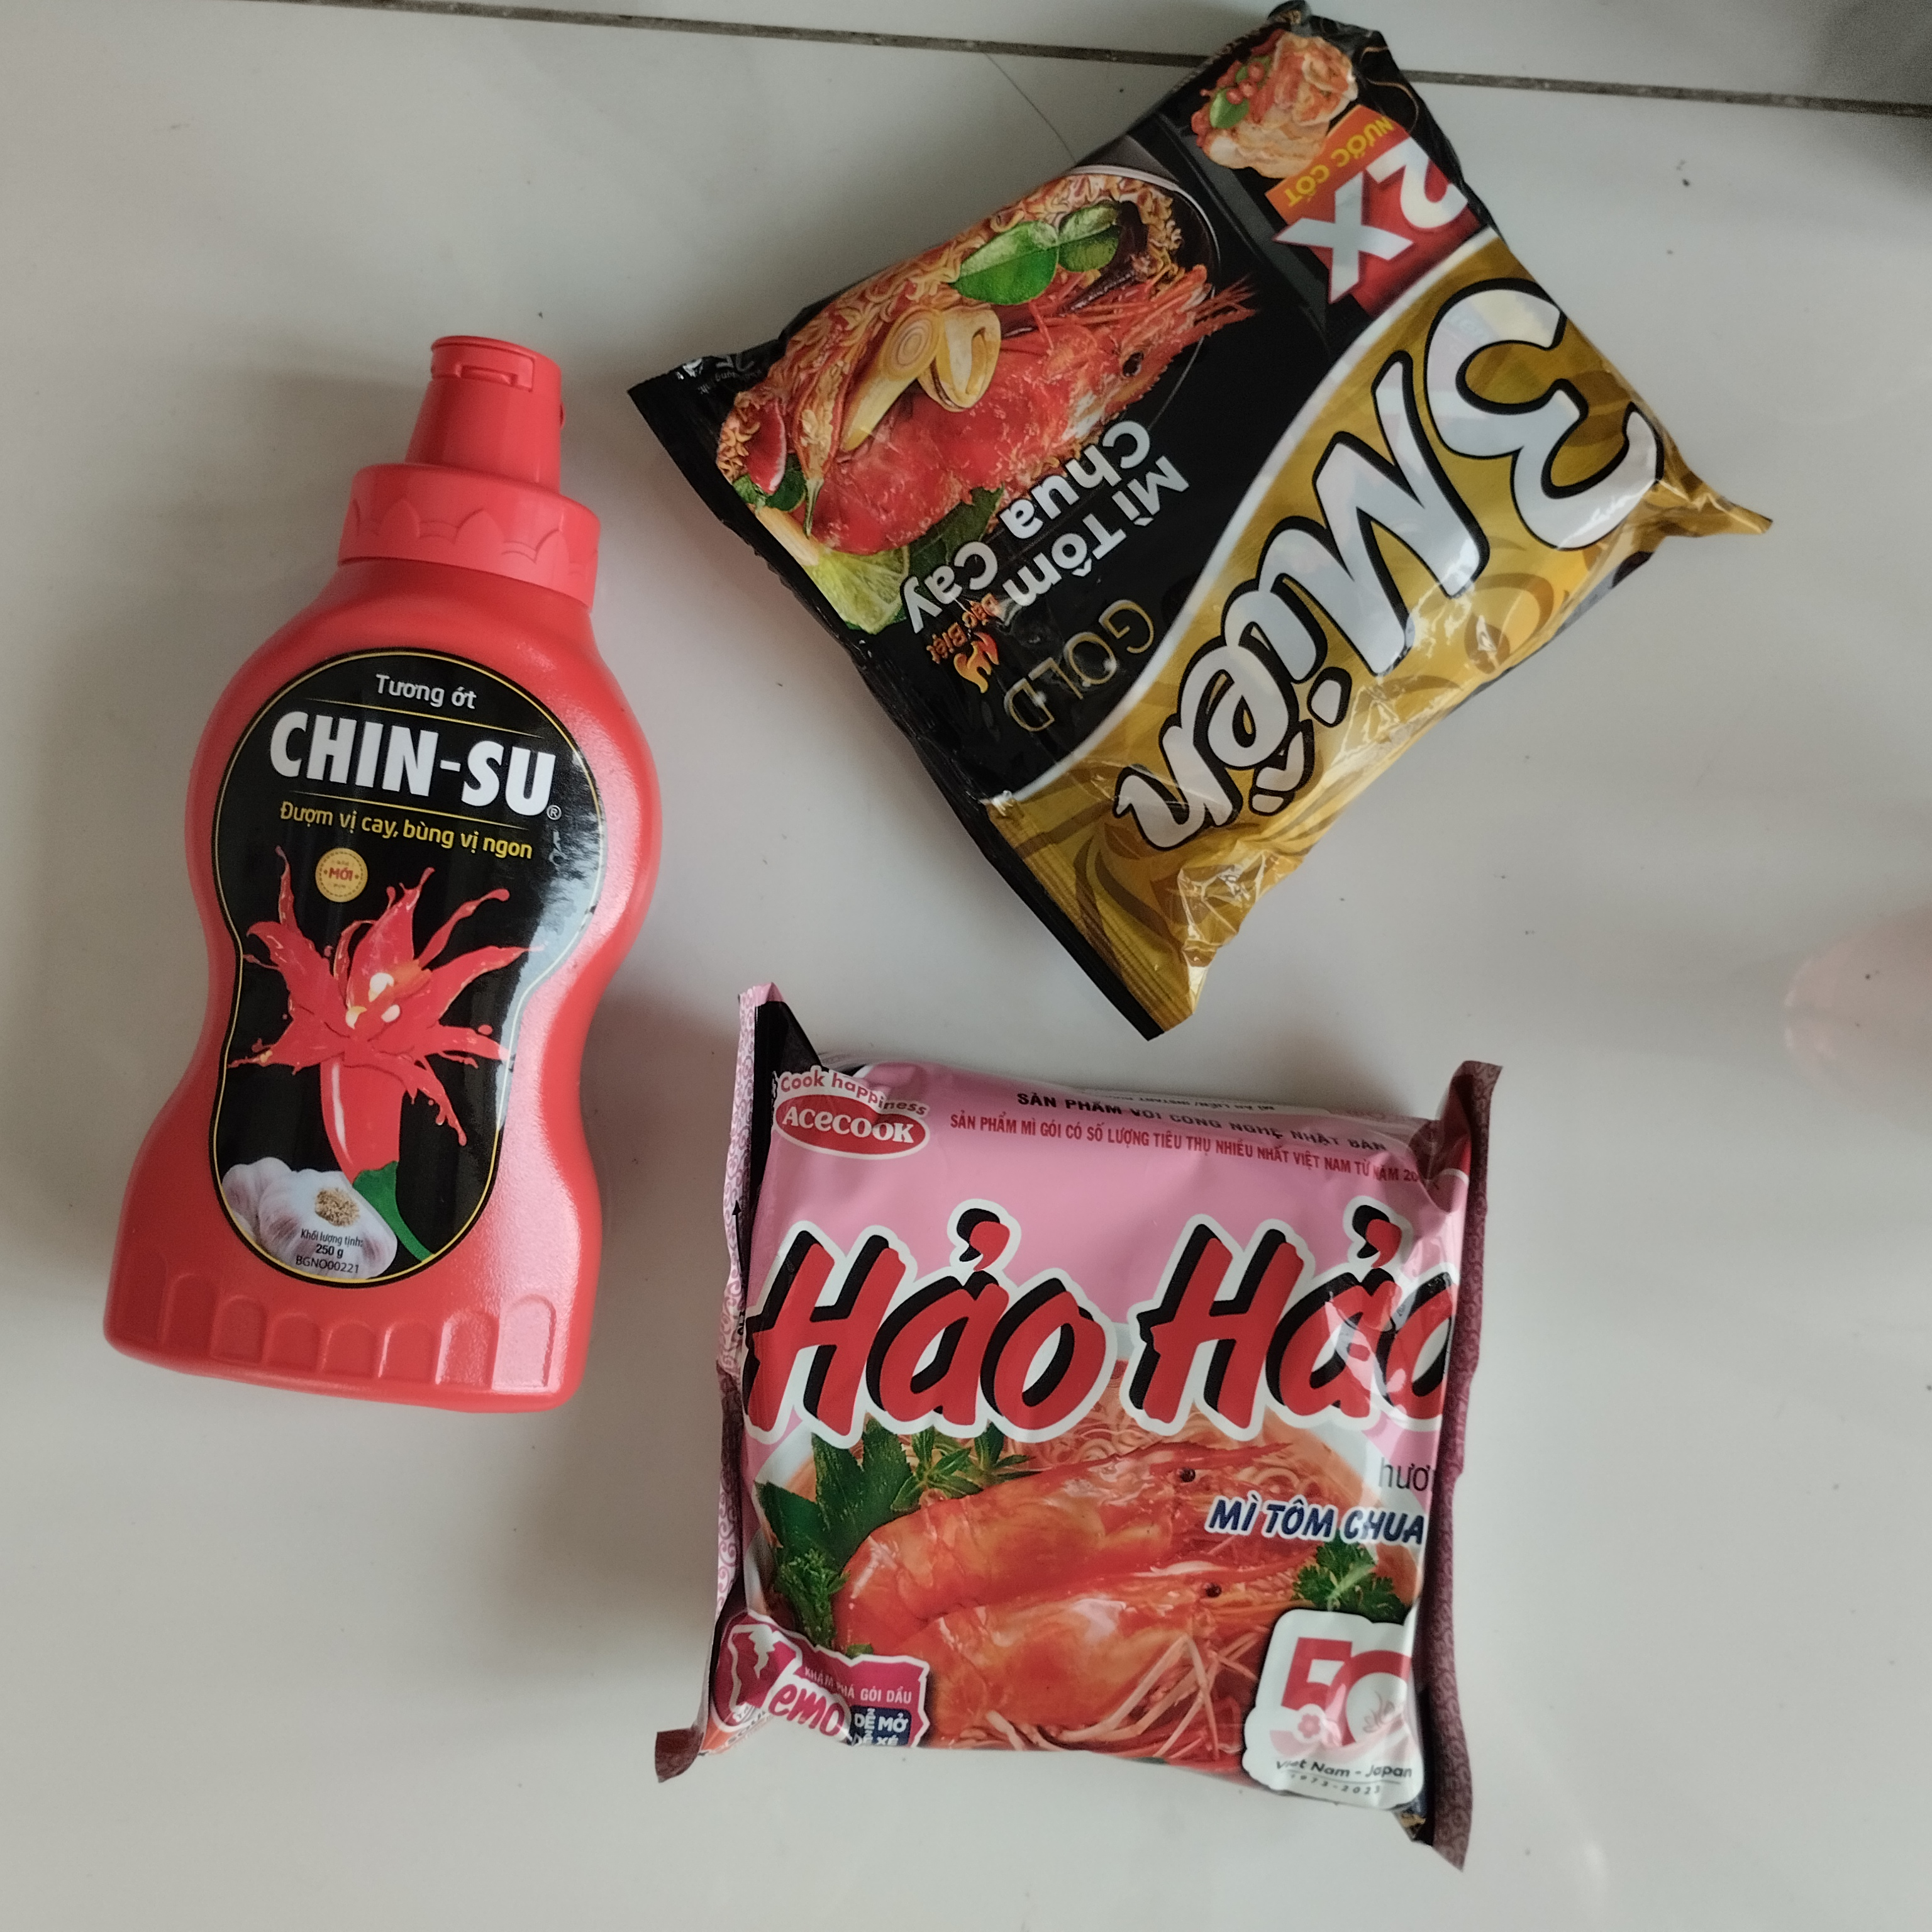3mien: (603, 7, 1778, 1065)
Chinsu: (103, 318, 665, 1428)
Haohao: (655, 980, 1520, 1895)
